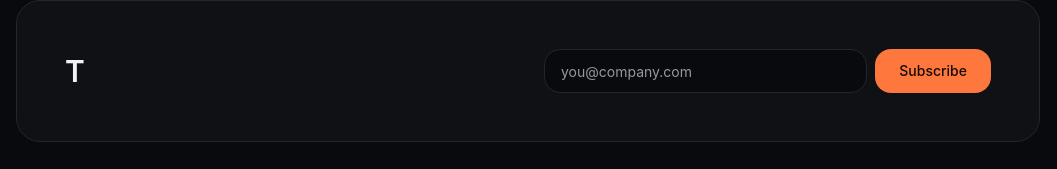
CtaEmailInline › submits a trimmed email and swaps the form for the success message
In the field named "Email address": {"x": 706, "y": 71} left=544, top=49, right=867, bottom=93, type " me@example.com "
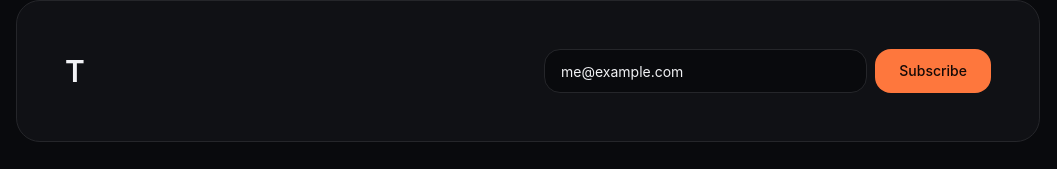
Click the button "Subscribe": {"x": 933, "y": 71} left=875, top=49, right=991, bottom=93
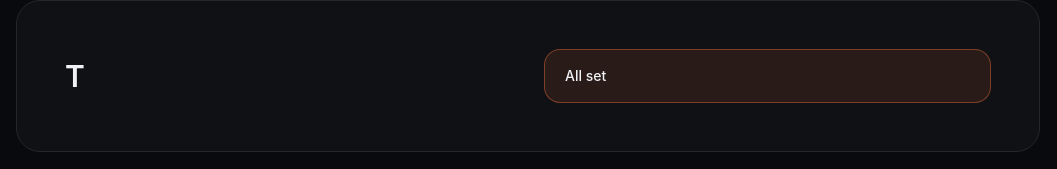
Expected: the field labelled "Email address" is not shown
Now the message reads "All set", box left=565, top=67, right=606, bottom=84
